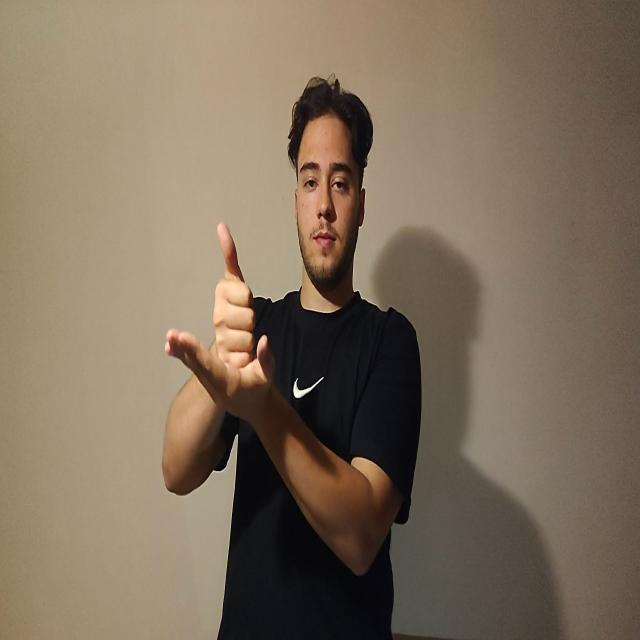help: (167, 220, 277, 406)
